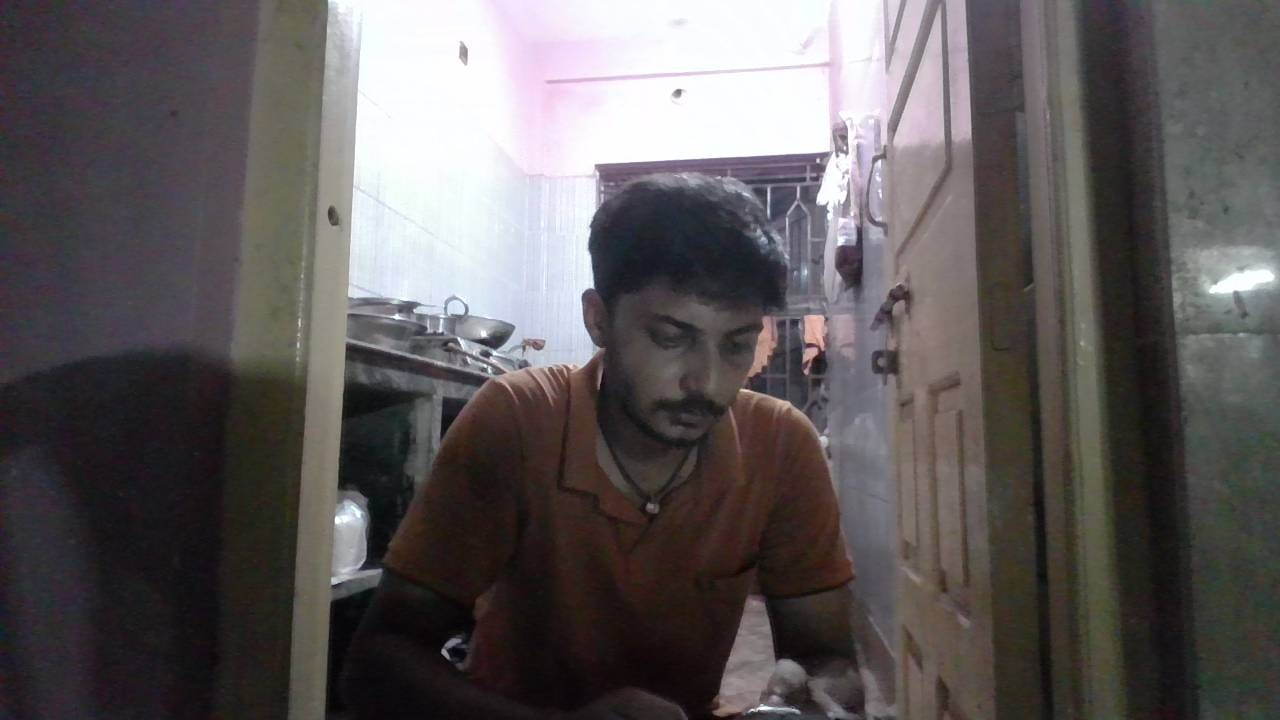red_box: (693, 404, 838, 558), (575, 448, 646, 523), (544, 376, 594, 452)
